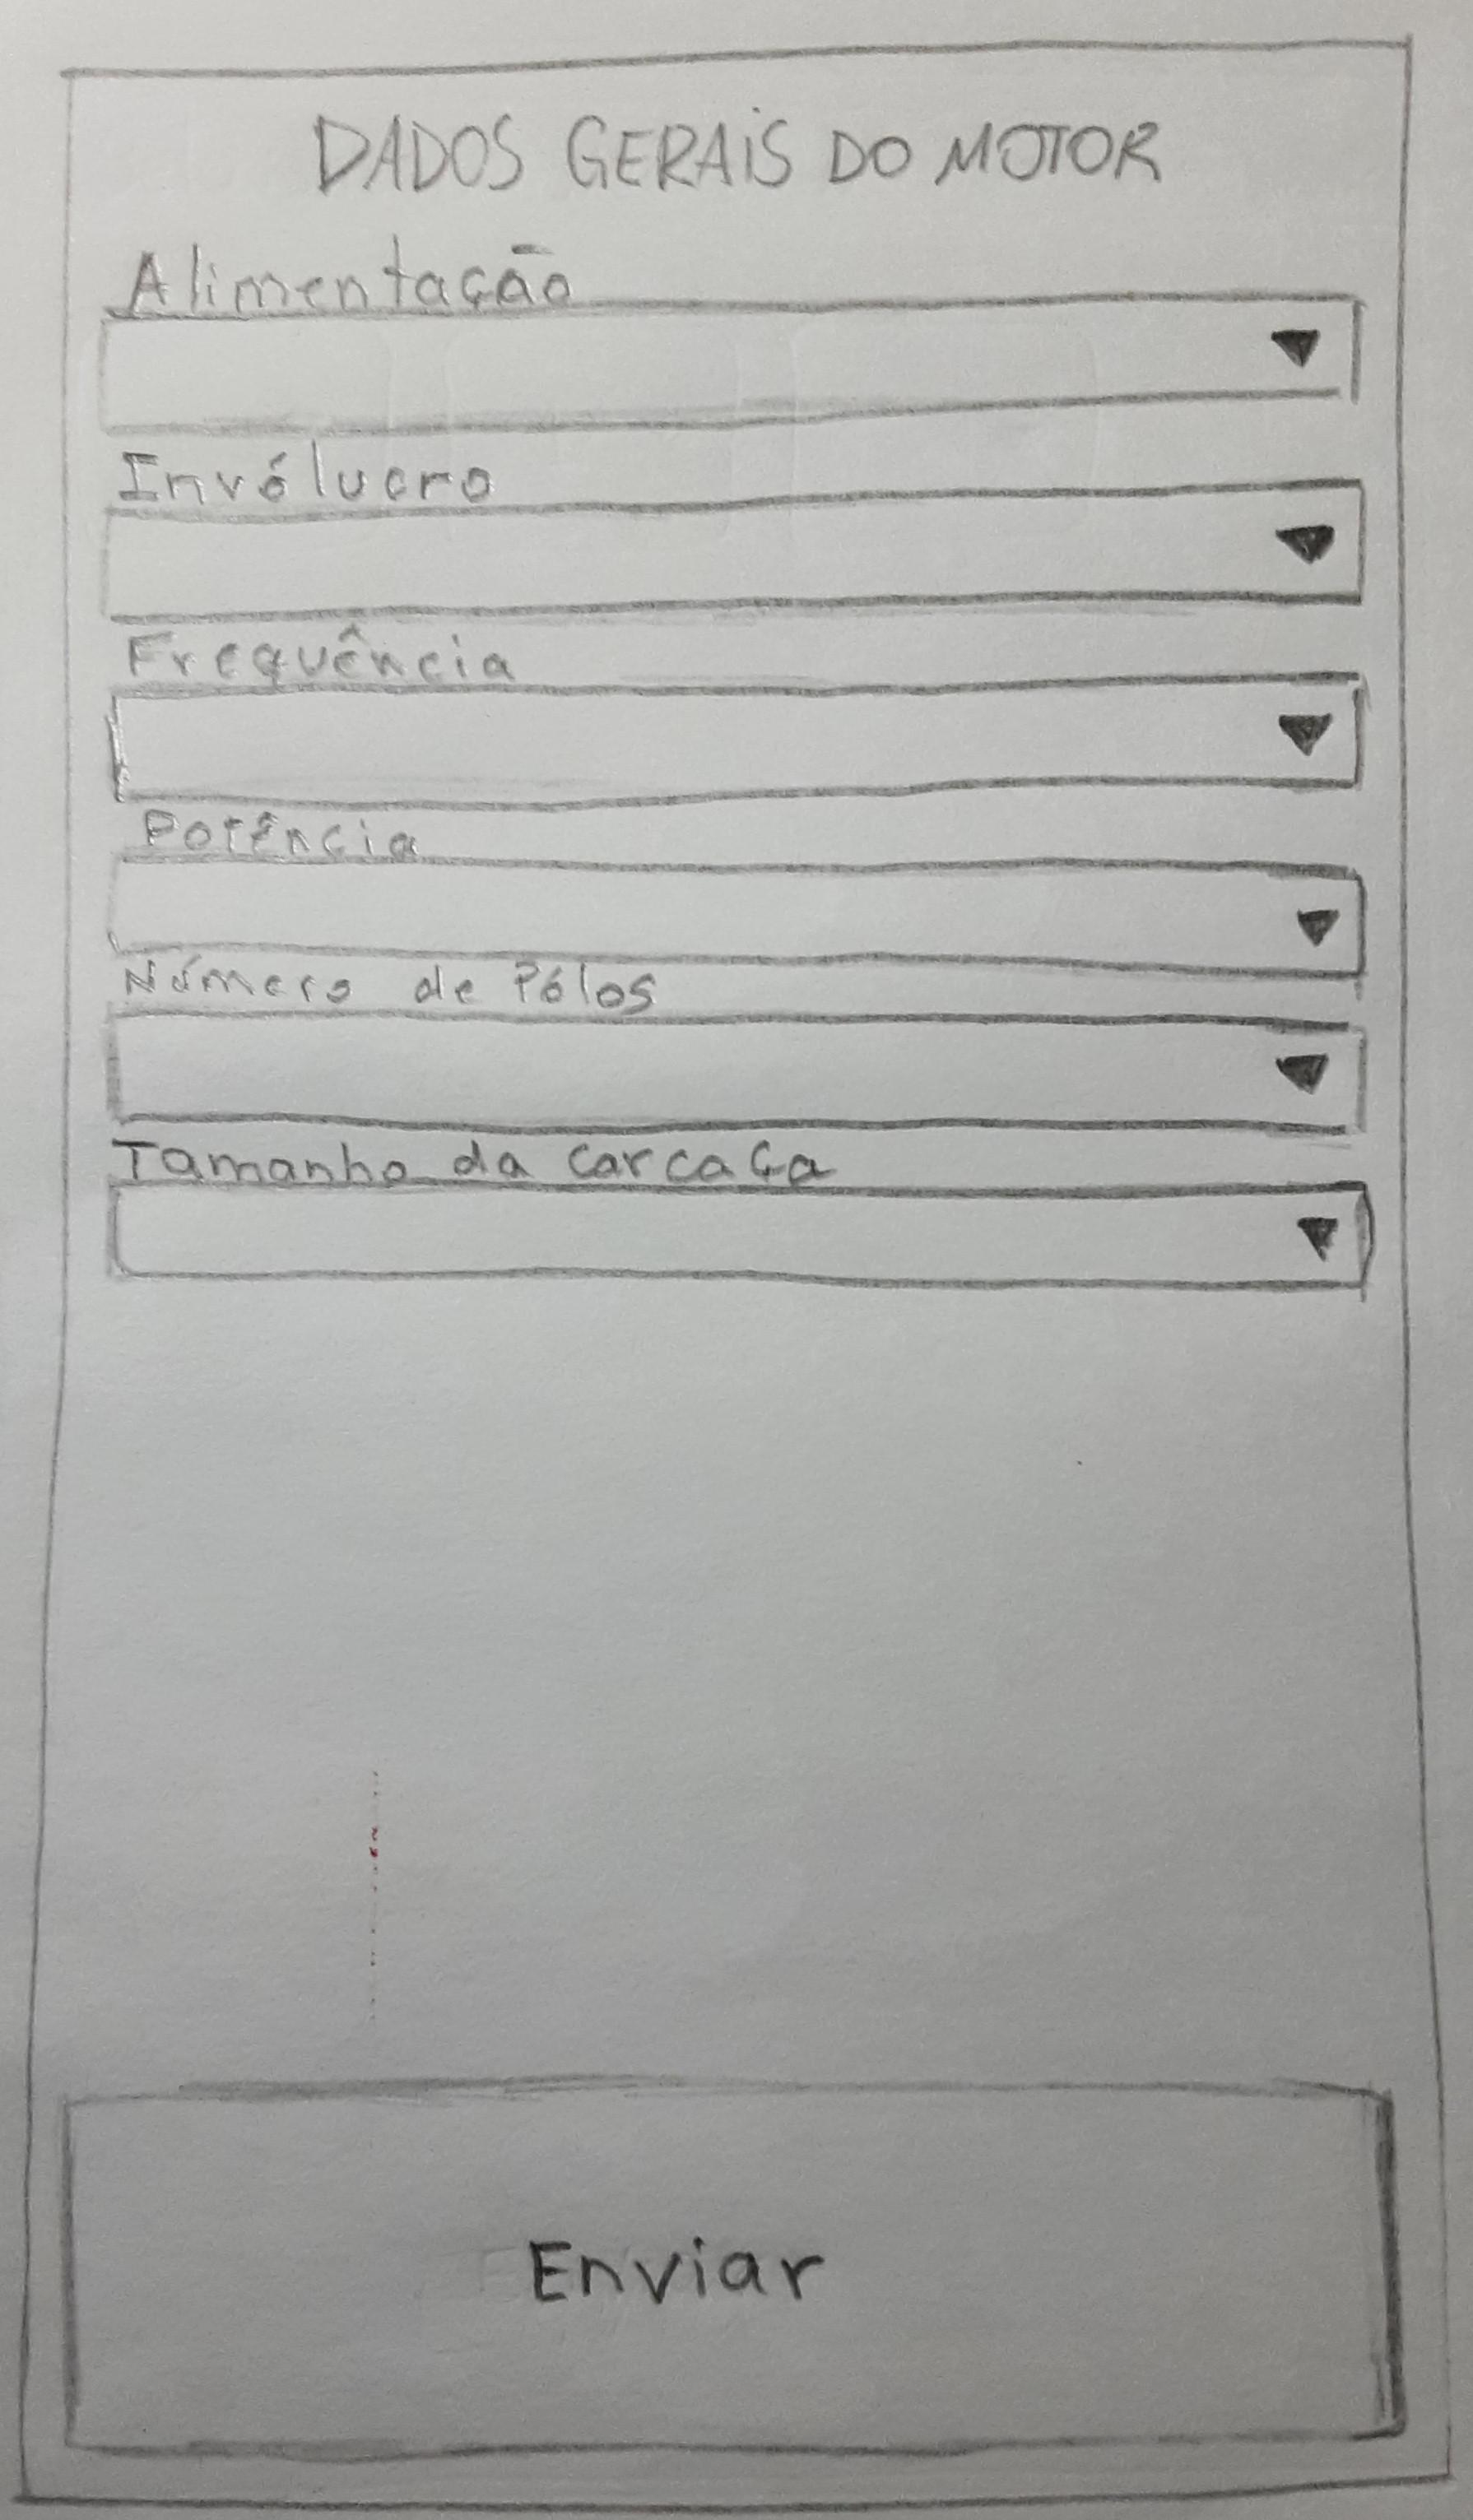Button: (54, 2078, 1406, 2462)
Label: (312, 107, 1163, 188), (112, 1132, 836, 1186), (126, 235, 575, 315), (123, 957, 658, 1018), (119, 440, 493, 505), (128, 624, 512, 682), (140, 806, 417, 859)
ListPicker: (102, 478, 1368, 624), (96, 294, 1363, 436), (112, 669, 1364, 810), (102, 1004, 1366, 1139), (107, 855, 1368, 981), (103, 1179, 1375, 1297)
Screen: (14, 42, 1454, 2508)
